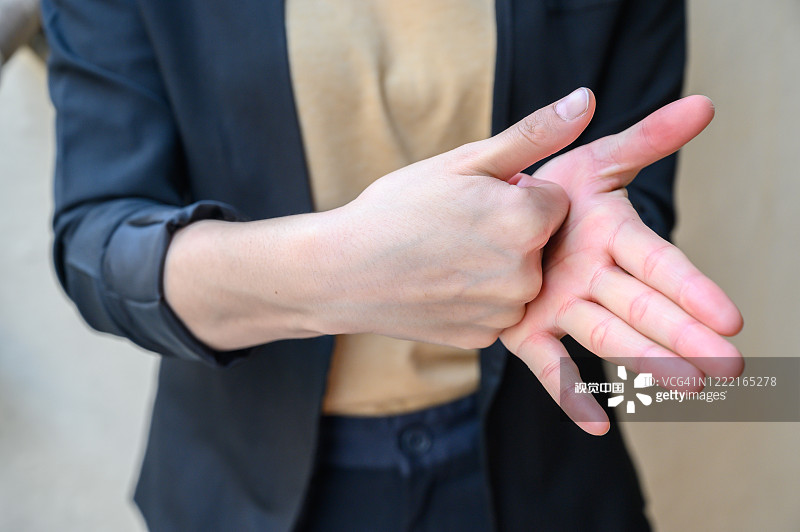no-phone: (504, 48, 756, 447), (303, 69, 600, 360)
